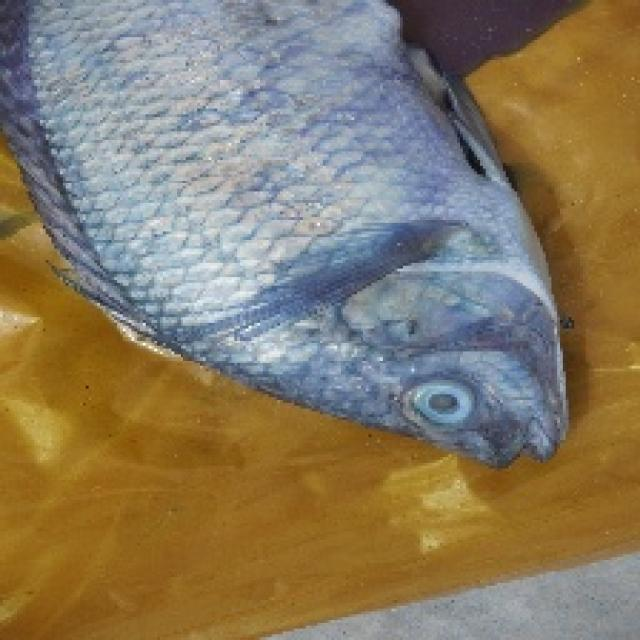Non-Fresh: (58, 0, 589, 486), (399, 363, 491, 448)
